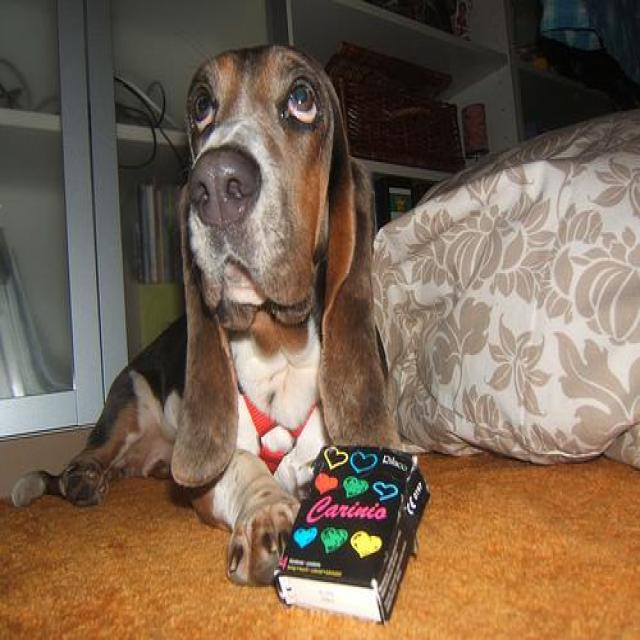basset: (13, 41, 422, 590)
